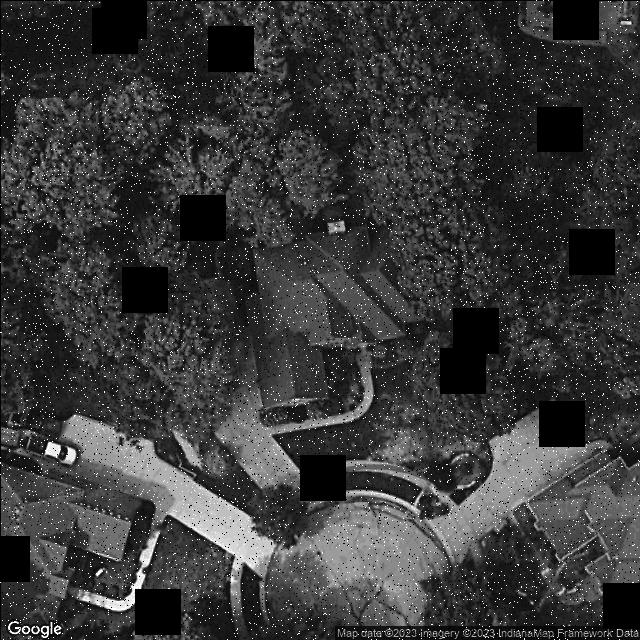Driveway: (194, 272, 372, 503)
Extra Driveway: (281, 485, 321, 519)
Extra Lawn: (312, 470, 420, 502), (267, 506, 291, 531)
House: (249, 225, 416, 407)
Other: (174, 431, 235, 476), (302, 459, 400, 478), (321, 205, 345, 234)
